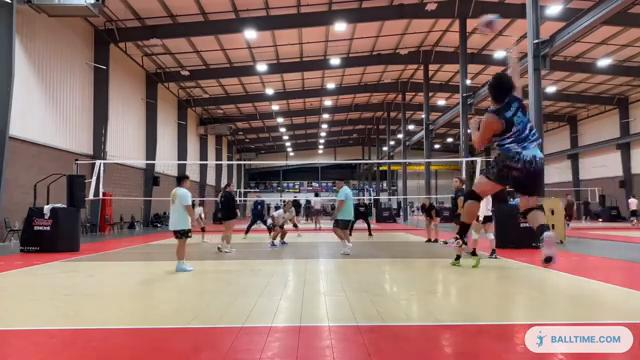Player: (169, 174, 193, 271), (470, 196, 496, 258), (333, 179, 353, 254), (217, 183, 237, 252), (268, 201, 296, 246), (243, 195, 270, 238), (349, 199, 372, 237), (420, 198, 439, 242), (451, 176, 464, 232), (192, 200, 205, 242)
Serve: (436, 31, 559, 270)
ball: (478, 13, 501, 34)
